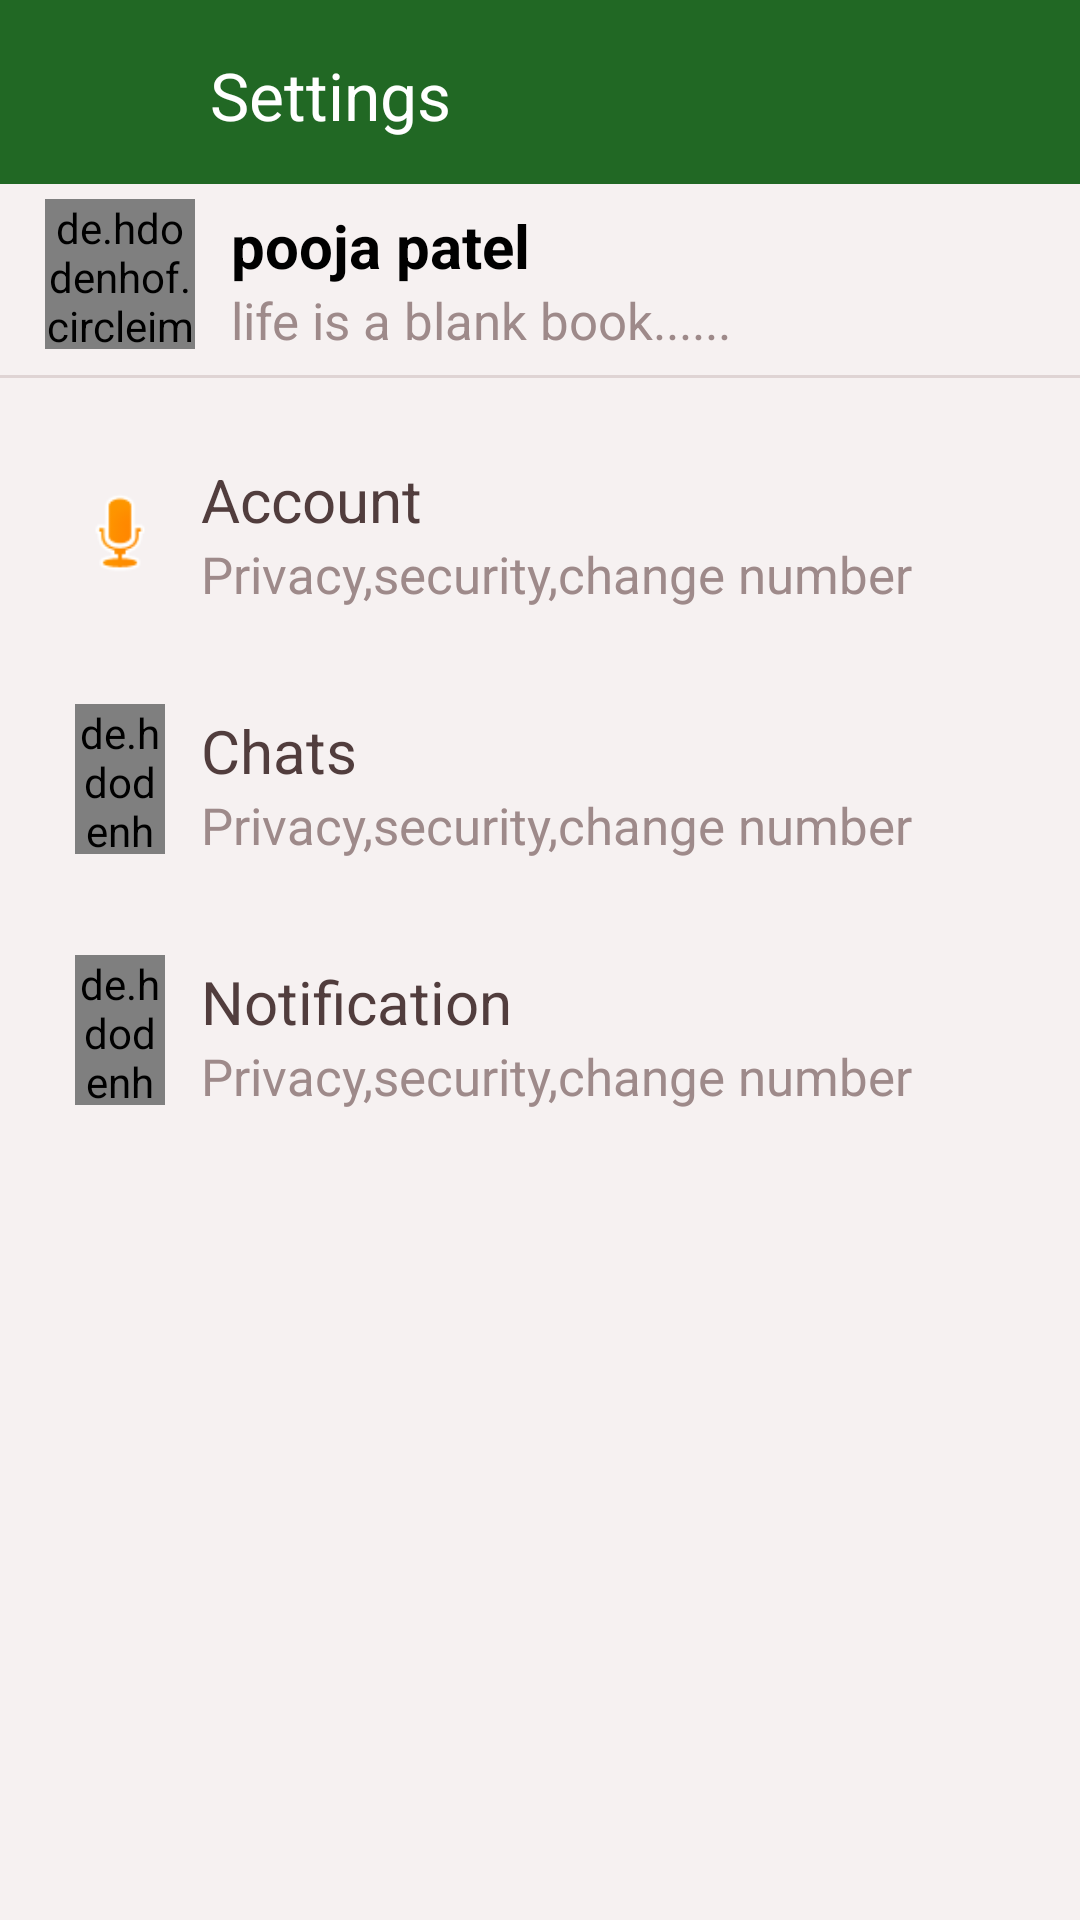

Locate icon controls on the screen. Image size 1080w x 1920h, boxes as (x1, y1, x2, y2).
presence audio away: (99, 498, 142, 568)
